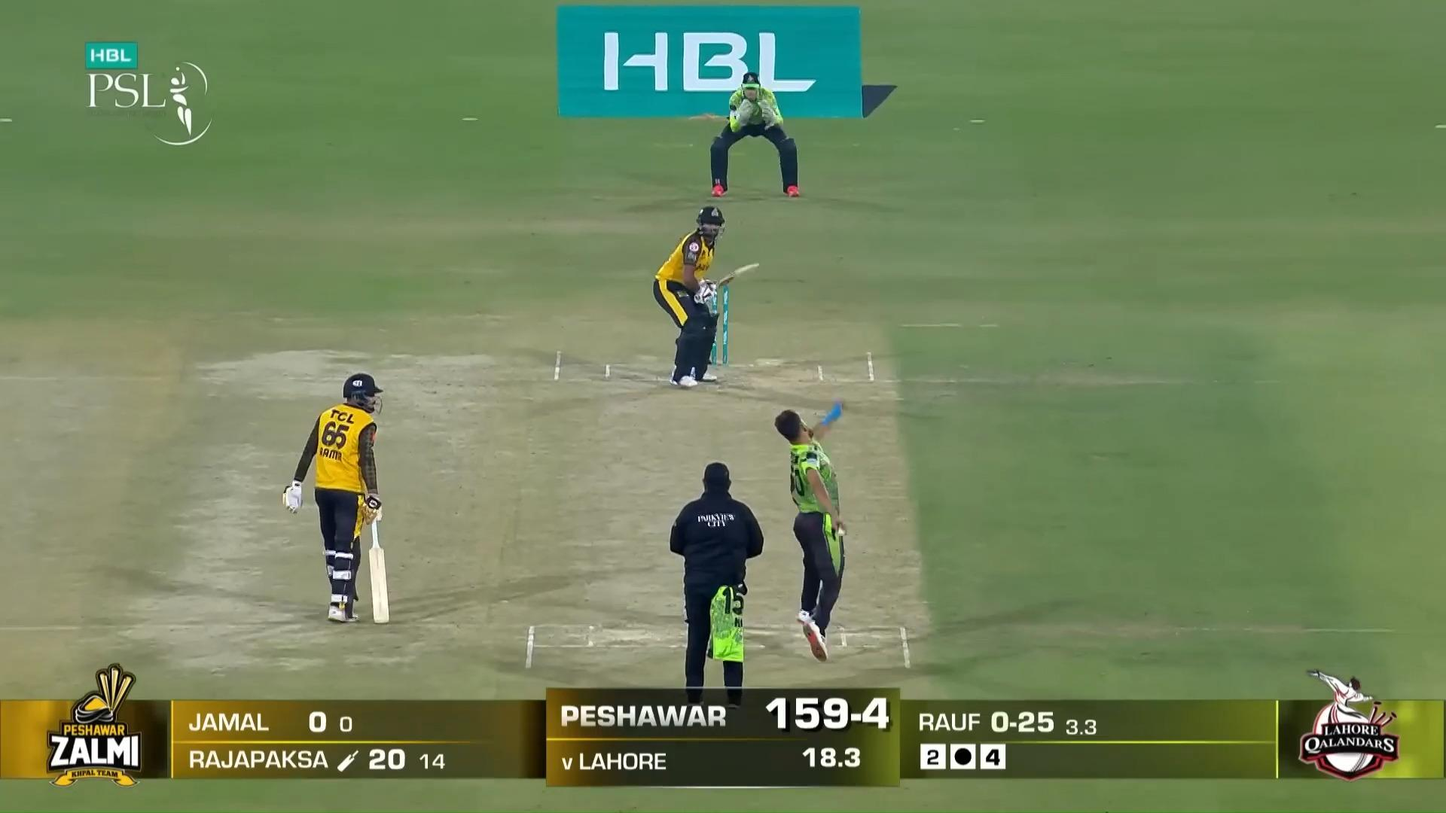batsman: (654, 204, 760, 389)
